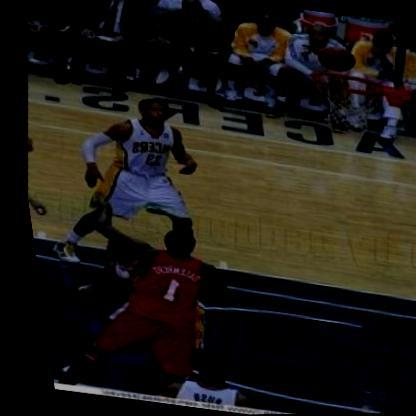basketball: (309, 41, 361, 77)
